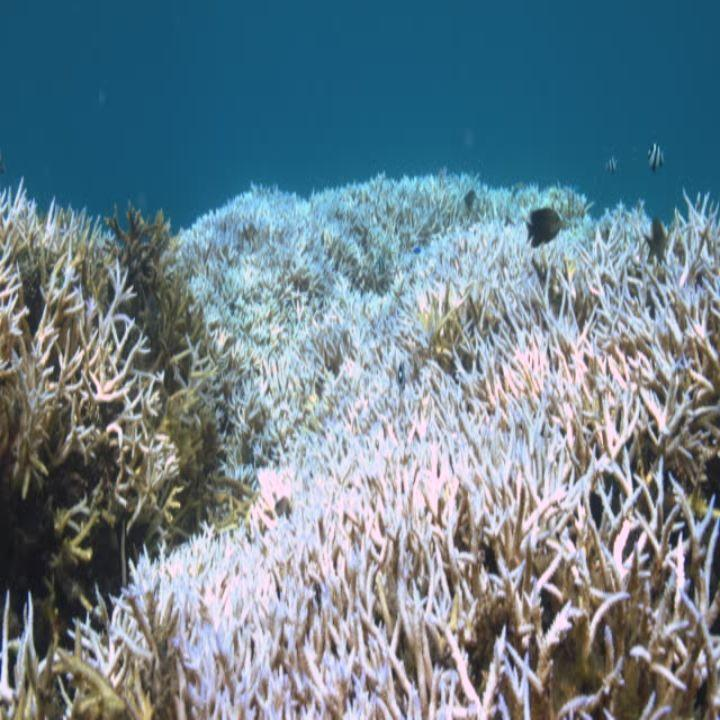Bleached disease: (201, 174, 710, 719), (2, 183, 180, 499)
